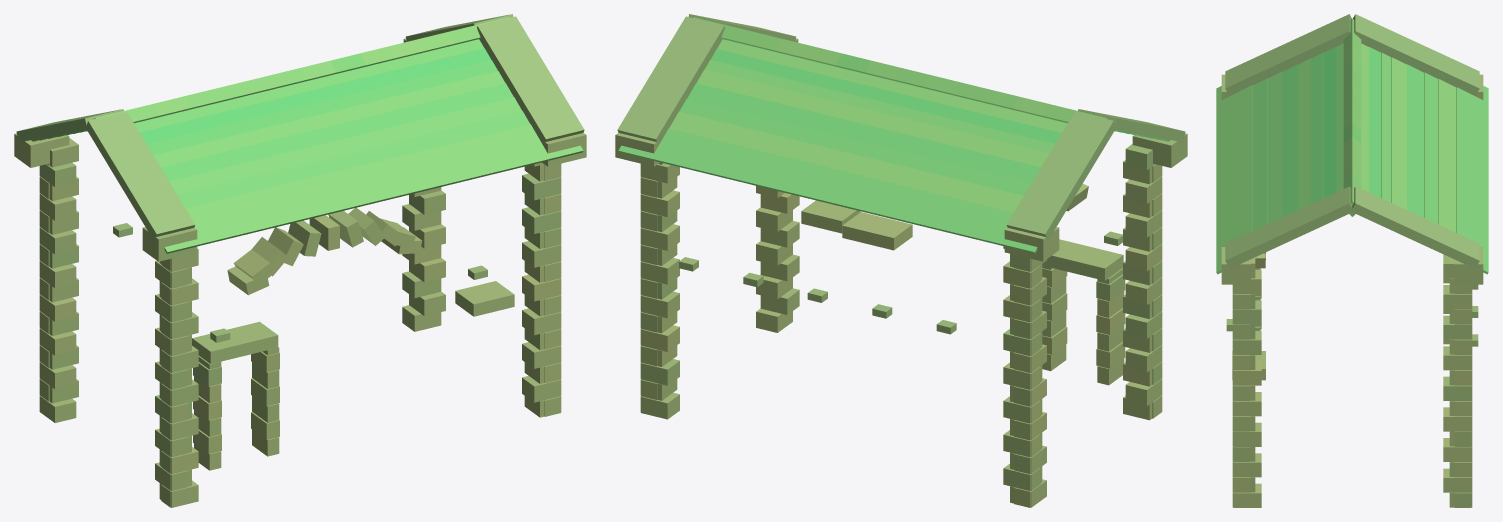
The model's file is SM_Bld_002_Stone.glb.
The picture shows the model from 3 angles, left to right: view 1: azimuth 30°, elevation 25°; view 2: azimuth 150°, elevation 25°; view 3: azimuth 270°, elevation 25°; orthographic projection. The views are drawn at different scales.
Visible parts, largest first — view 1: SM_Bld_002_Stone; view 2: SM_Bld_002_Stone; view 3: SM_Bld_002_Stone.
Boxes of the visible parts, <box> form: SM_Bld_002_Stone: <box>14,14,586,507</box>; SM_Bld_002_Stone: <box>615,14,1187,507</box>; SM_Bld_002_Stone: <box>1216,14,1488,507</box>.
Bounding box in the file's own units: 7.97 × 6.14 × 4.84.
